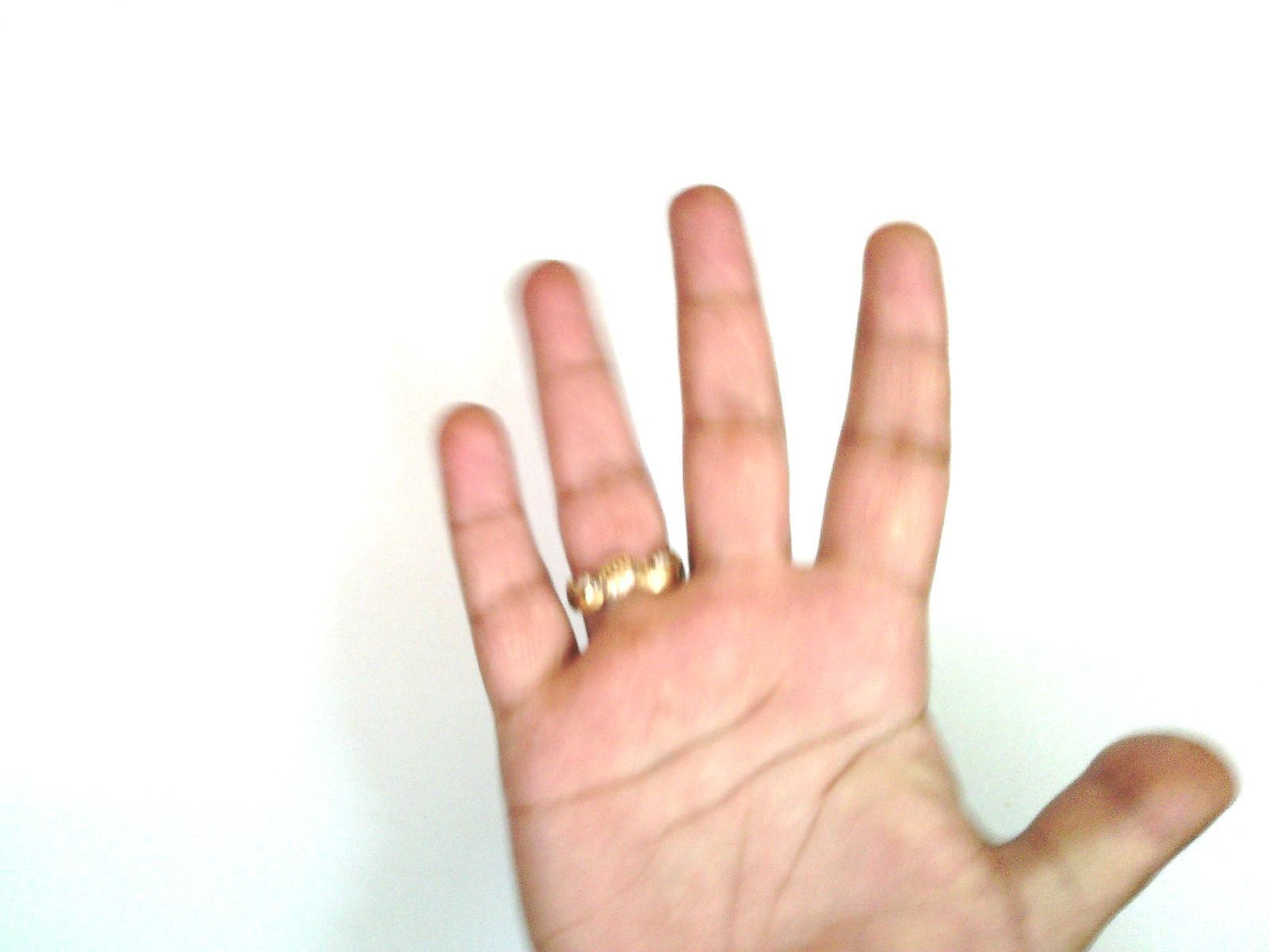open_palm: (431, 182, 1241, 951)
